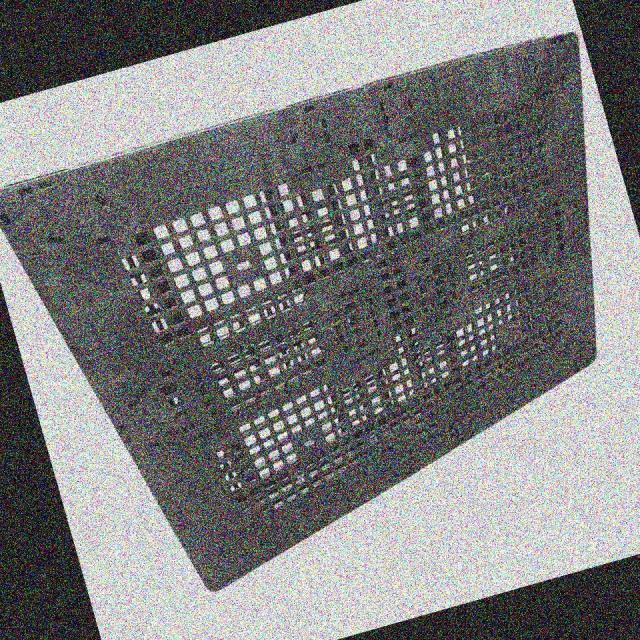non-igps: (0, 30, 598, 594)
